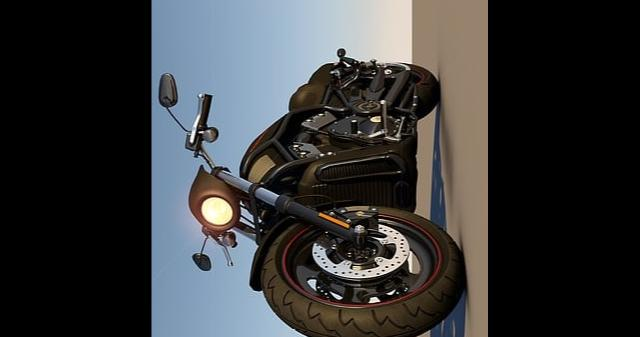Non_Gorille: (154, 43, 464, 337)
